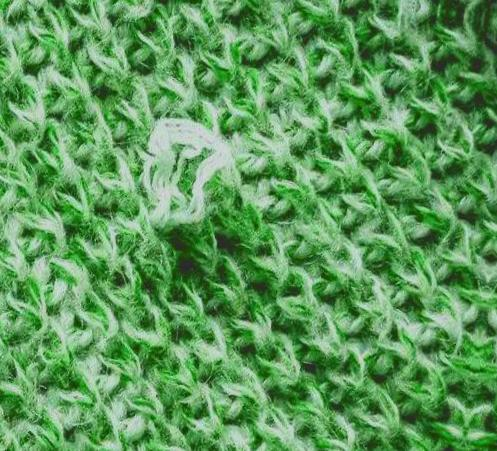snag: (139, 112, 238, 238)
